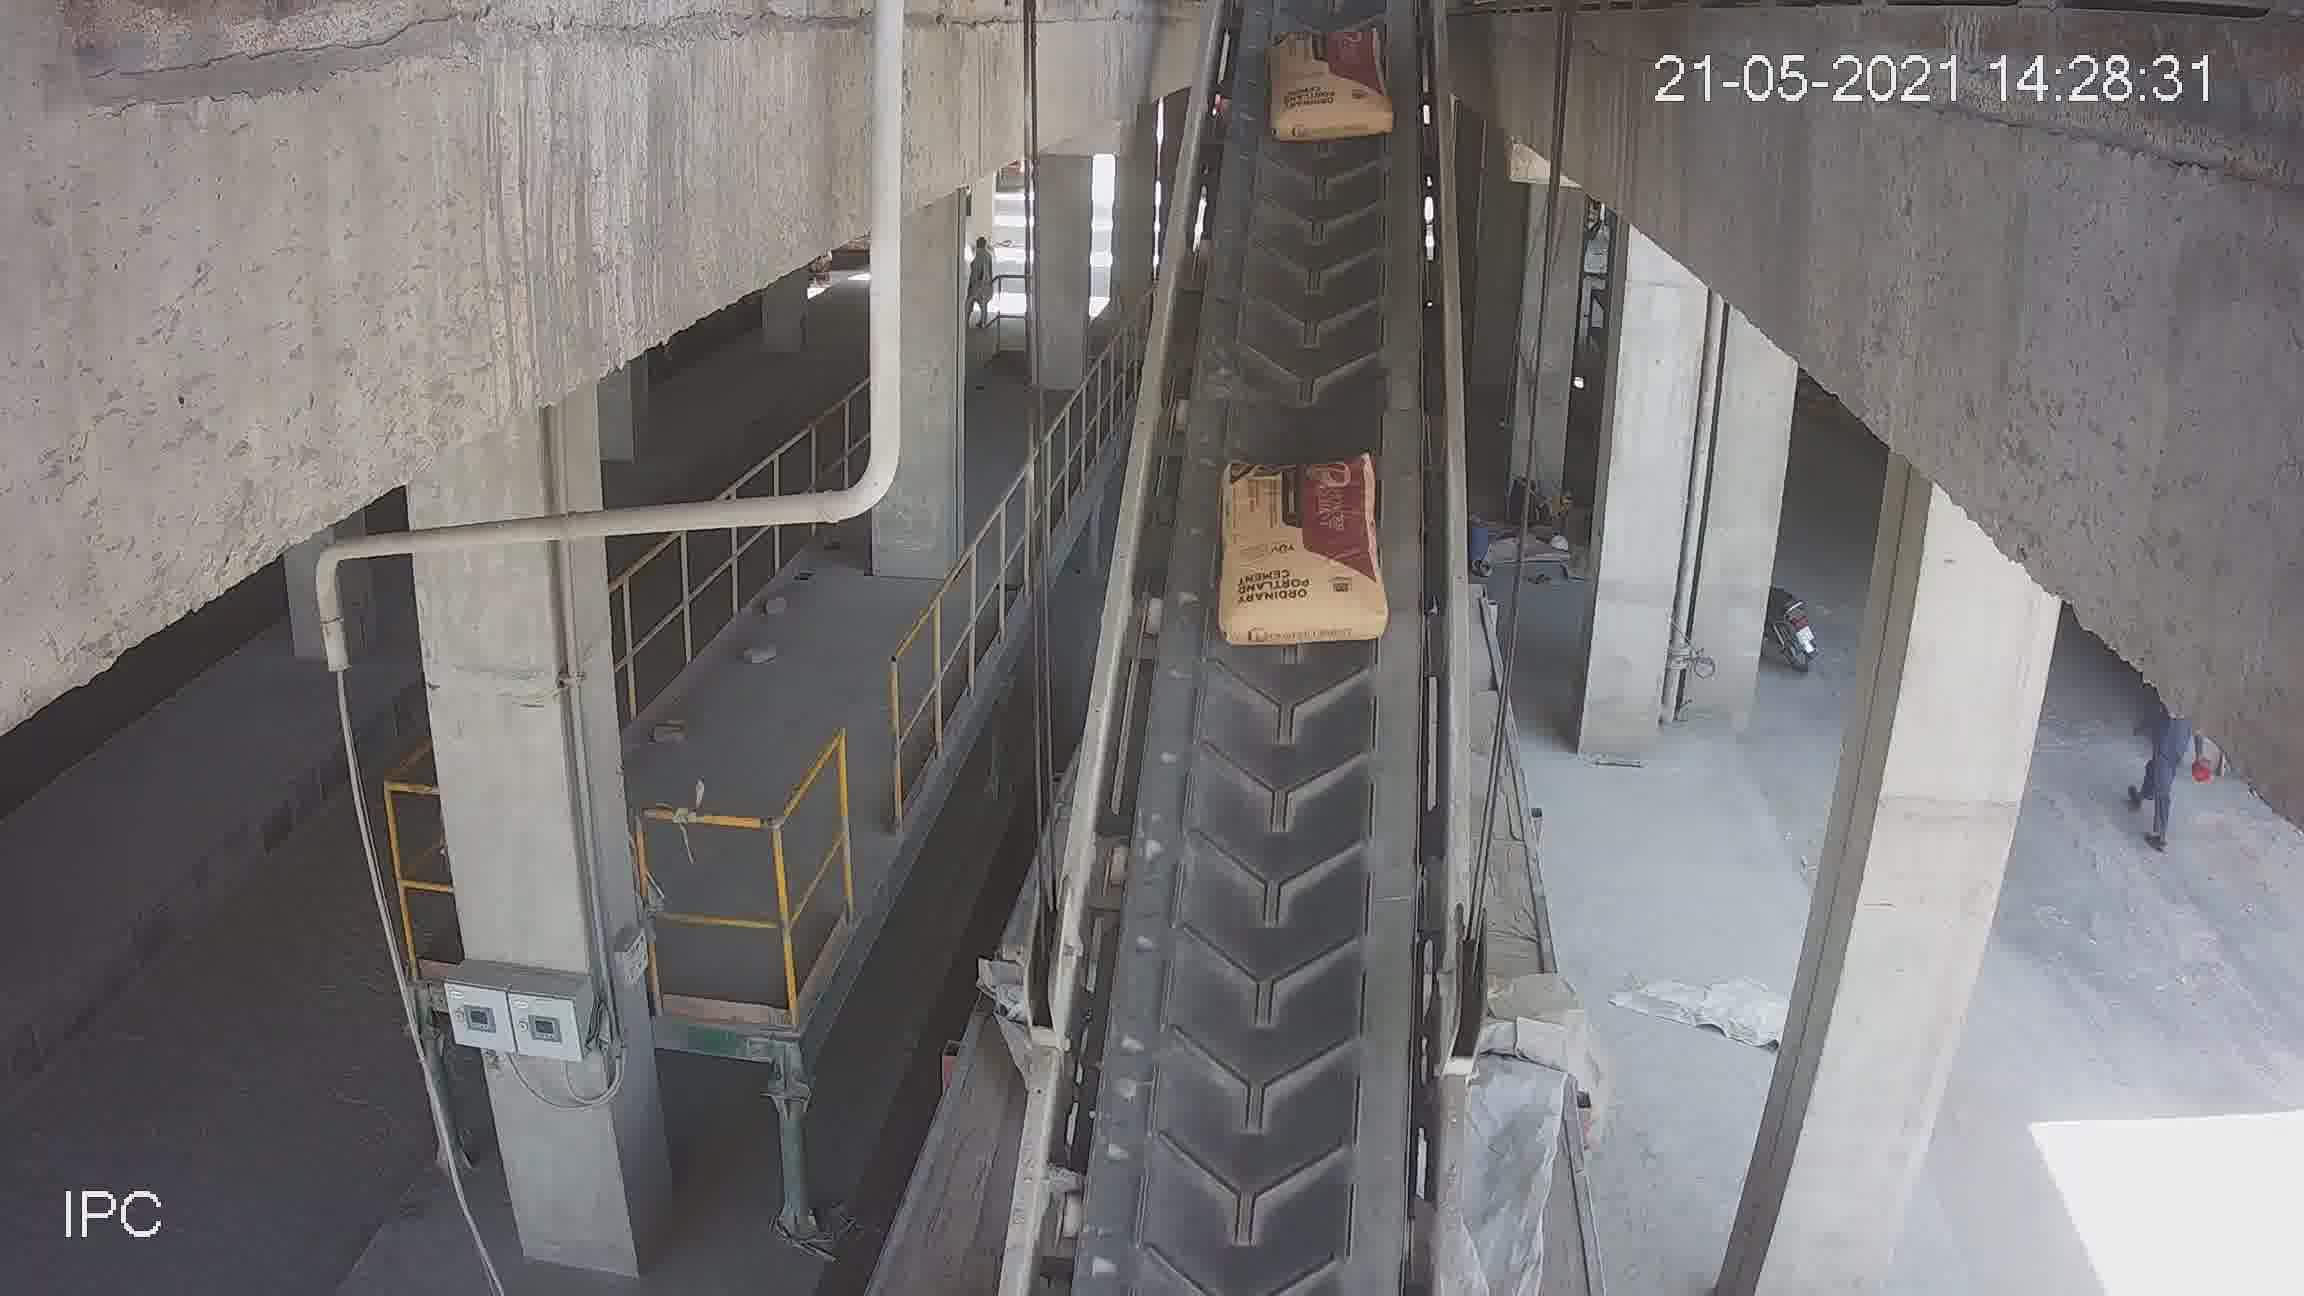bag: (1215, 457, 1381, 644), (1272, 35, 1377, 127)
belt: (1052, 25, 1475, 1252)
